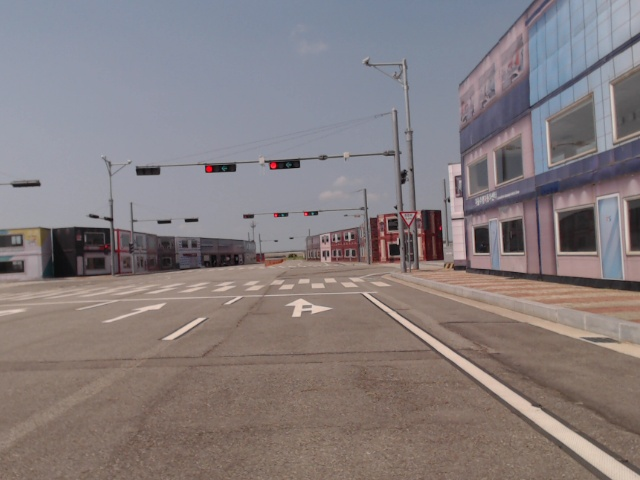left_green_4: (270, 161, 300, 169), (205, 165, 235, 172), (274, 213, 289, 217), (304, 212, 318, 215)
